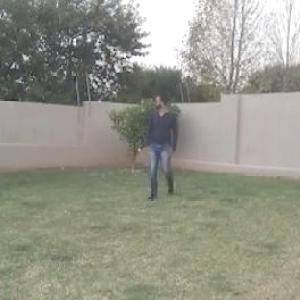follow: (144, 86, 174, 204)
